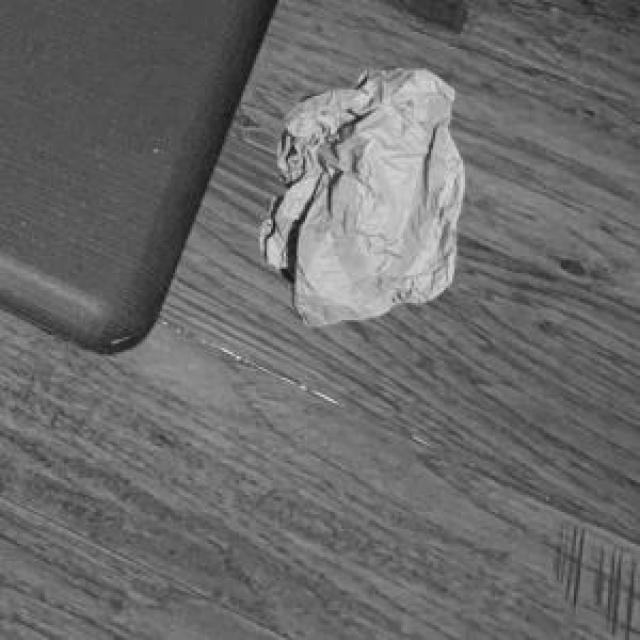paper: (256, 66, 461, 322)
